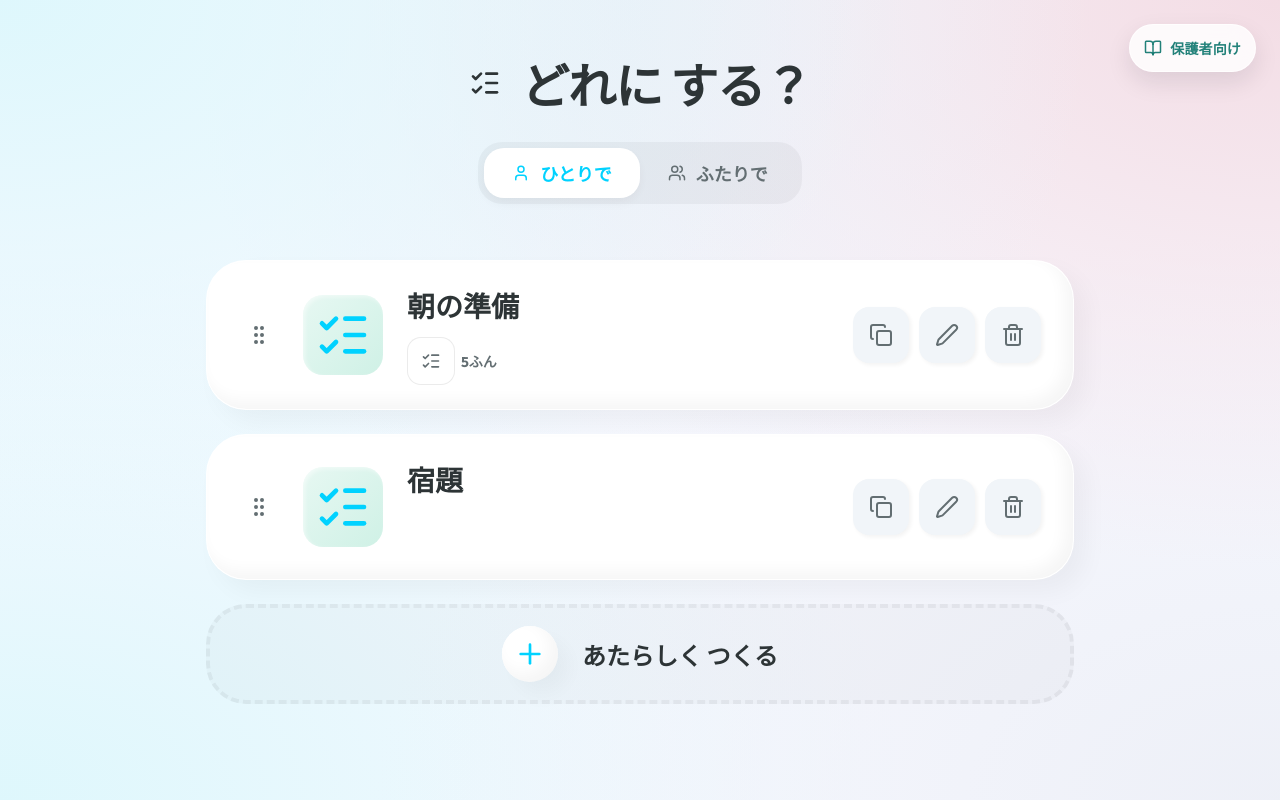
Test: TodoListSelection › リストをコピーしたときにエラーが発生しないこと (Hook 違反の確認)
This screenshot has width=1280, height=800.
Note: 最初のリストのコピーボタンをクリック
Click the 1st button named "リストを コピーする": point(881, 335) [853, 307, 909, 363]
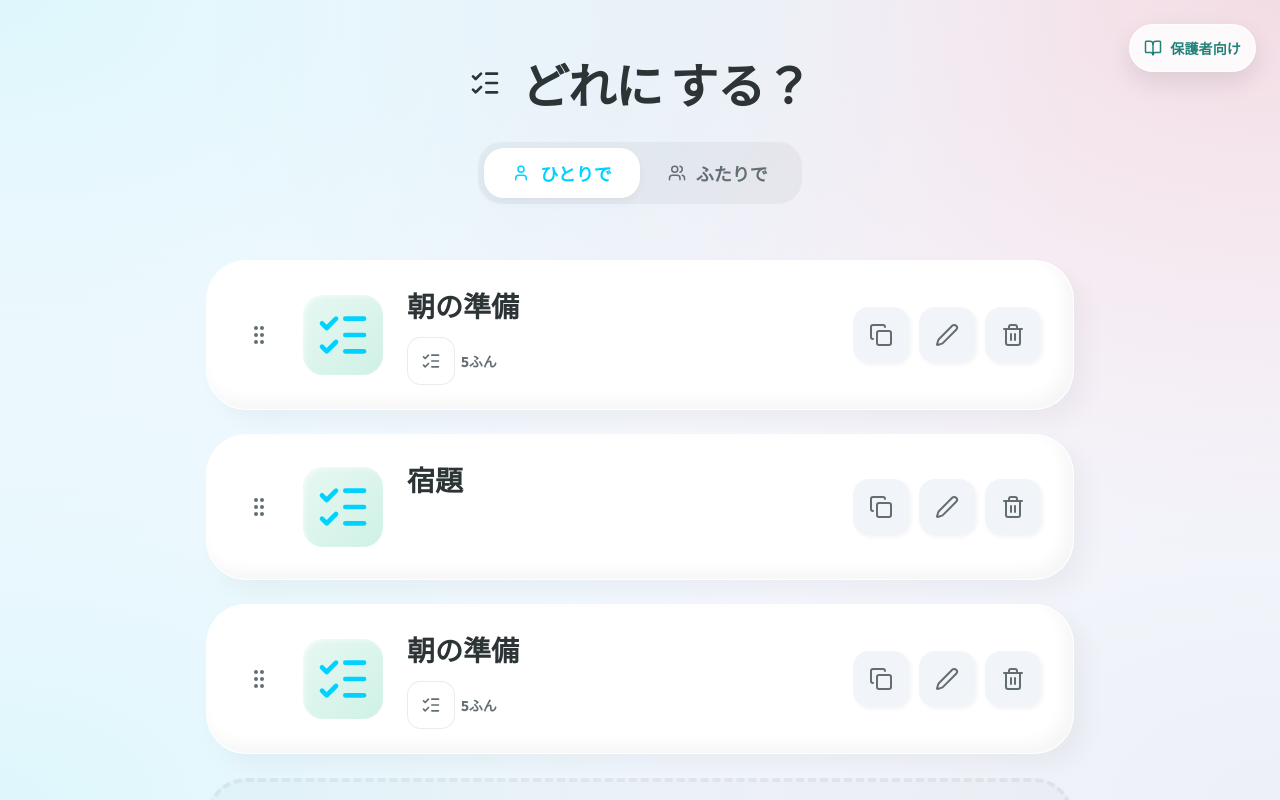
expect the number of buttons named "リストをえらぶ" is 3: met, box [206, 260, 1074, 410]; [206, 434, 1074, 580]; [206, 604, 1074, 754]
